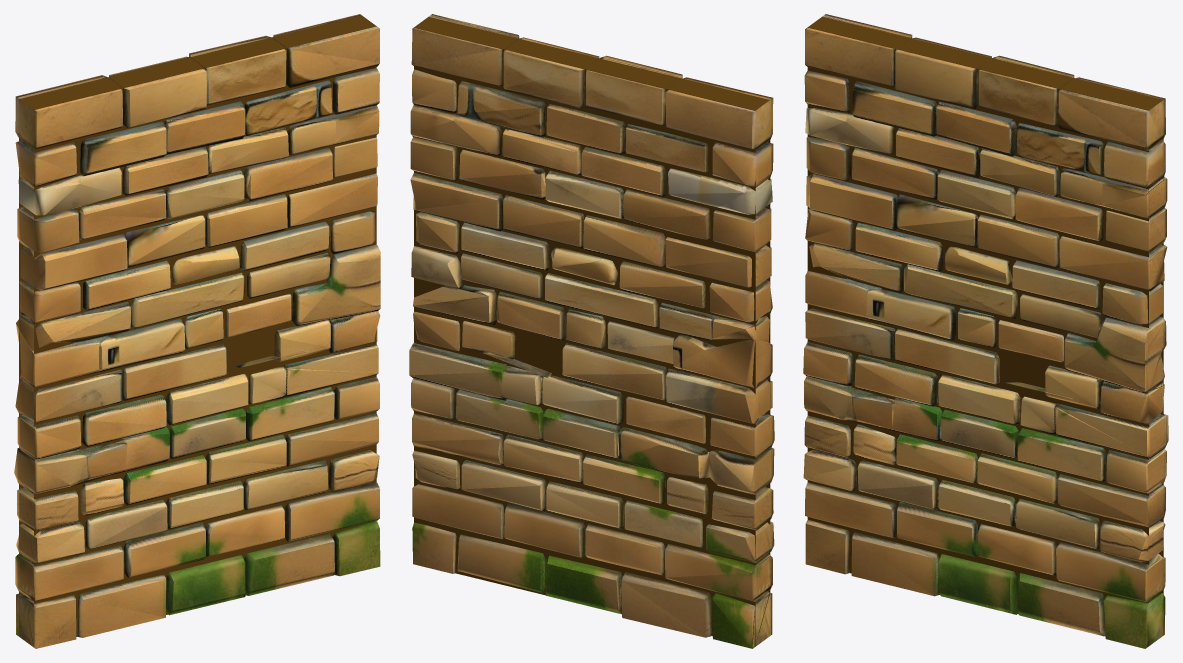
The model's file is wall-stone.glb.
3 renders of one model, left to right at view 1: azimuth 30°, elevation 25°; view 2: azimuth 150°, elevation 25°; view 3: azimuth 330°, elevation 25°, orthographic.
Size of the model in its own units: 2 by 3 by 0.25.
1 material, 1 textured.
